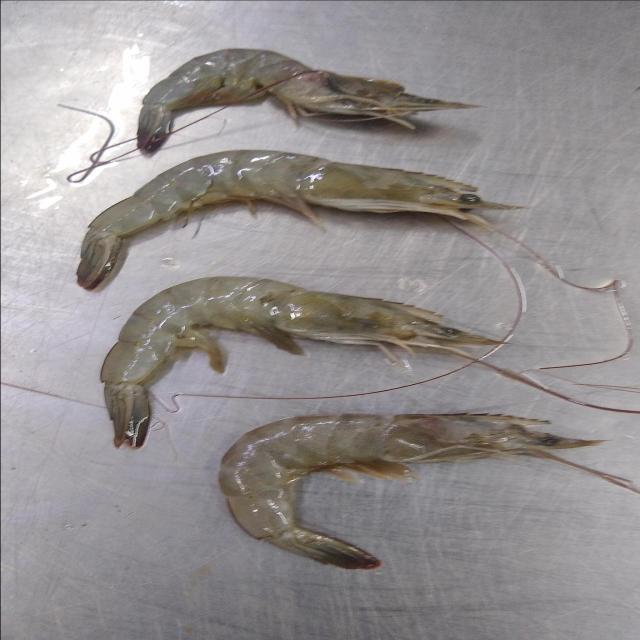shrimp: (100, 276, 500, 448), (218, 414, 636, 569), (76, 150, 518, 289), (136, 49, 476, 154)
